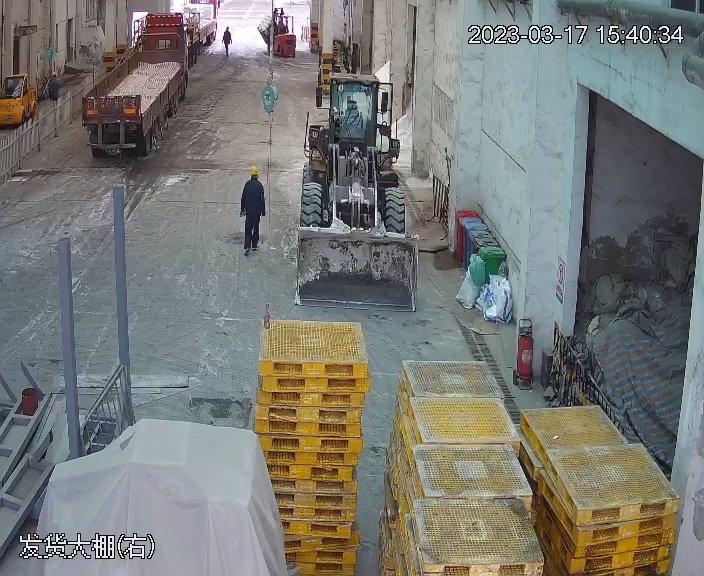head: (243, 165, 264, 194), (221, 25, 234, 57), (48, 71, 60, 87)
helmet: (248, 164, 260, 175), (51, 71, 57, 77)
people: (237, 163, 268, 257), (47, 72, 61, 103)
truck: (76, 6, 208, 160)
